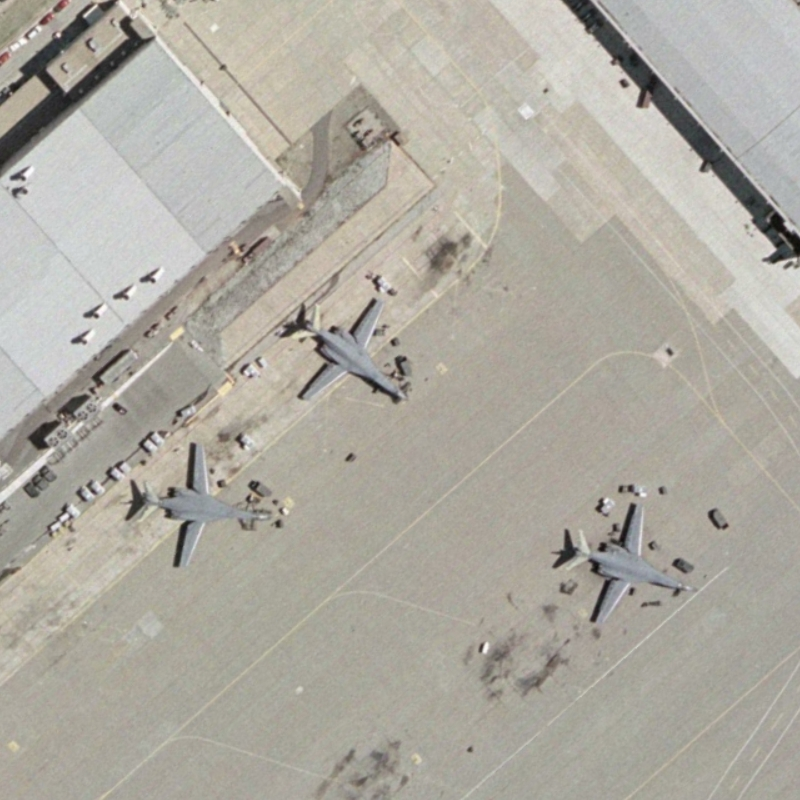A10: (128, 433, 276, 572), (556, 496, 700, 630), (273, 287, 415, 412)
